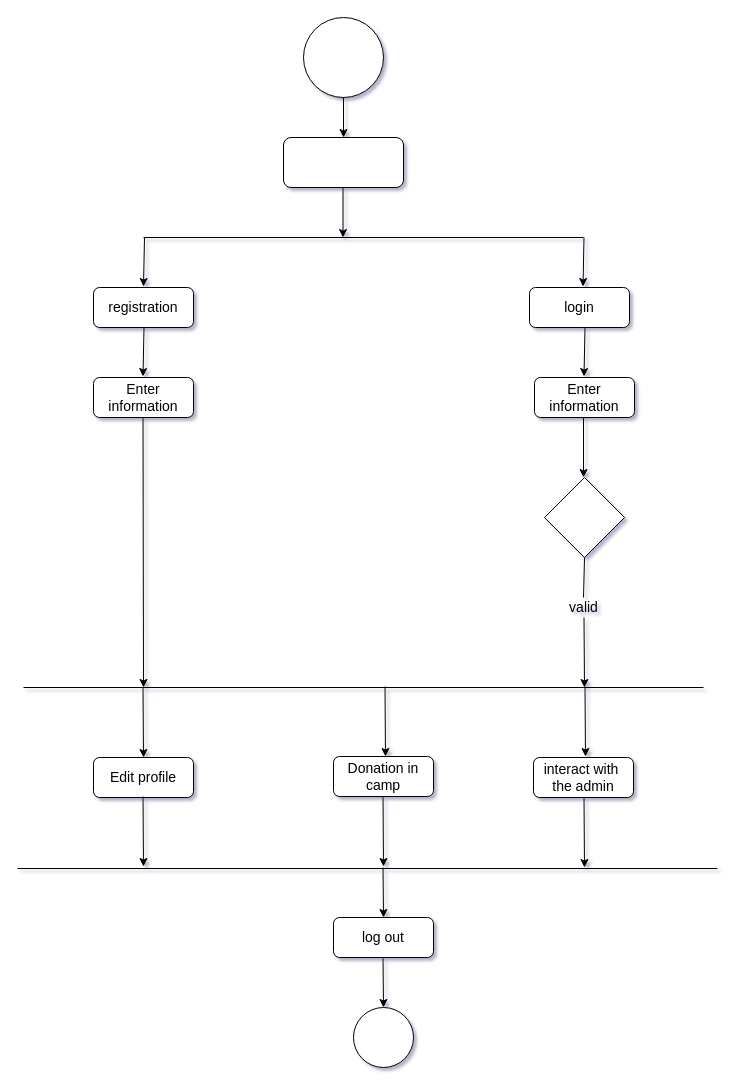
This 742x1091 diagram has some shape labels left out. The shapes that lost their labels are listed below. From the top down, each one's centre as x and y in pixels, then its label:
At (x=343, y=162): "join".
At (x=584, y=517): "check".
